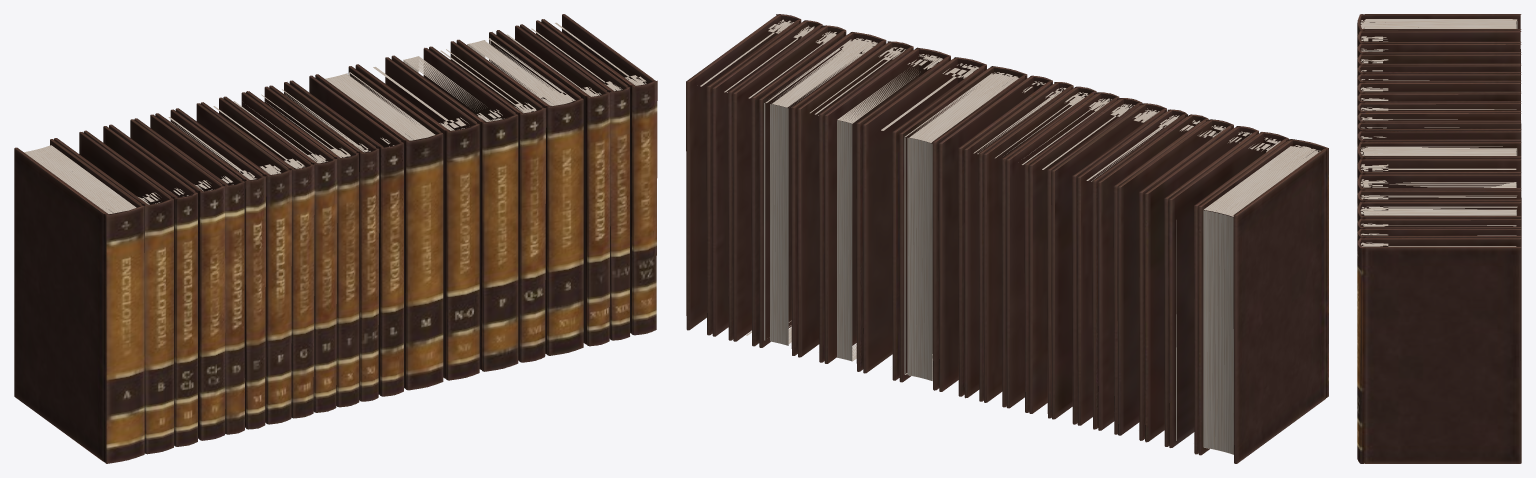
Rendered from book_encyclopedia_set_01.glb.
3 renders of one model, left to right at view 1: azimuth 30°, elevation 25°; view 2: azimuth 150°, elevation 25°; view 3: azimuth 270°, elevation 25°, orthographic. The views are drawn at different scales.
Parts seen in each view (by area): view 1: book_encyclopedia_set_01; view 2: book_encyclopedia_set_01; view 3: book_encyclopedia_set_01.
Part boxes in pixels (x1,y1,x2,y2): book_encyclopedia_set_01: [14, 14, 657, 463]; book_encyclopedia_set_01: [686, 14, 1328, 463]; book_encyclopedia_set_01: [1357, 14, 1521, 463].
Bounding box in the file's own units: 0.5528 × 0.2374 × 0.1636.
Materials: 2 (2 with a texture image).
